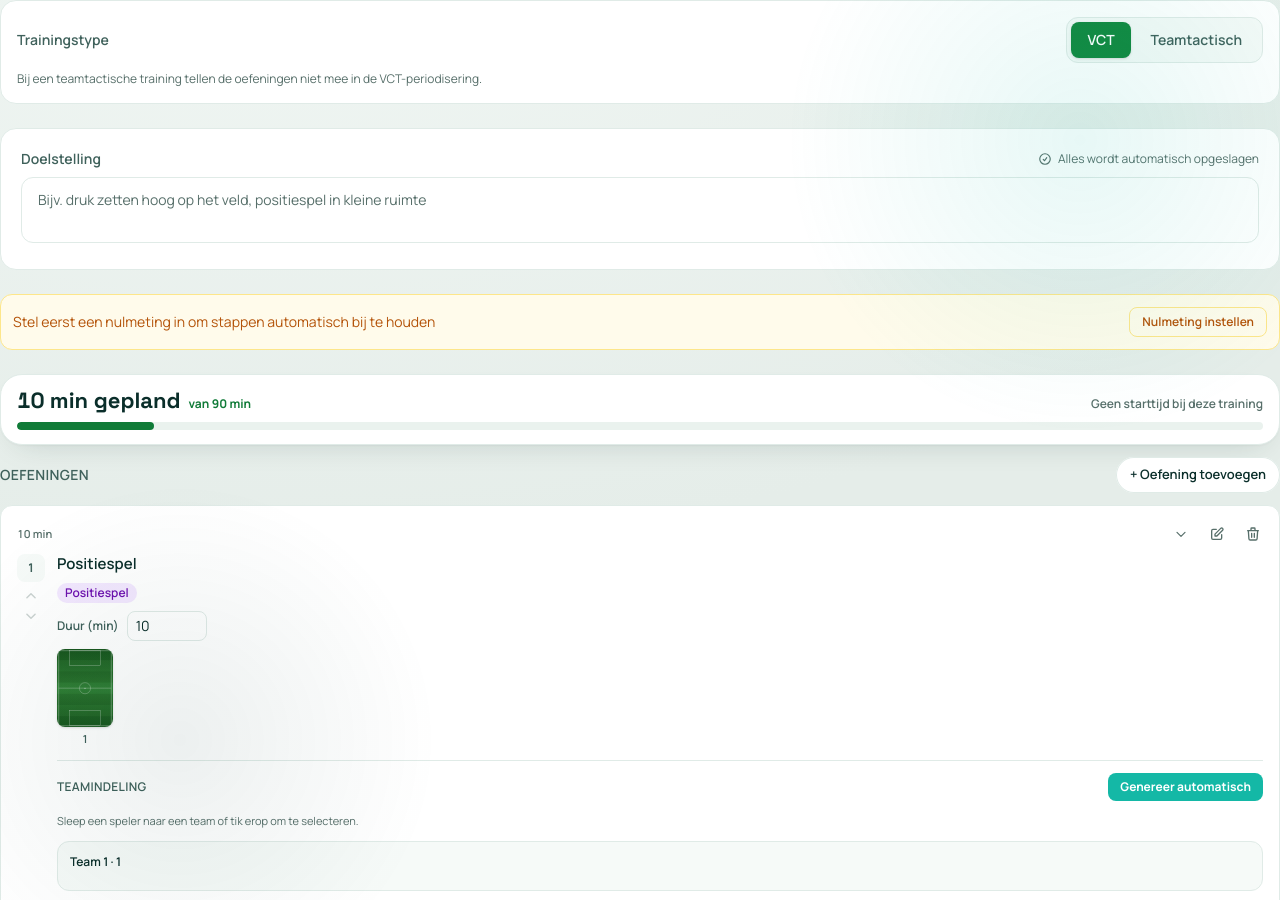
Scenario: TrainingPlanEditor — "Parallel aan"-veld › is disabled bij een training met maar 1 koppeling (geen enkele optie naast "— niet parallel —")
Step 1. Click the button named "Details" → {"x": 1181, "y": 534}, box 1165,518 -> 1197,550
(page scrolled)
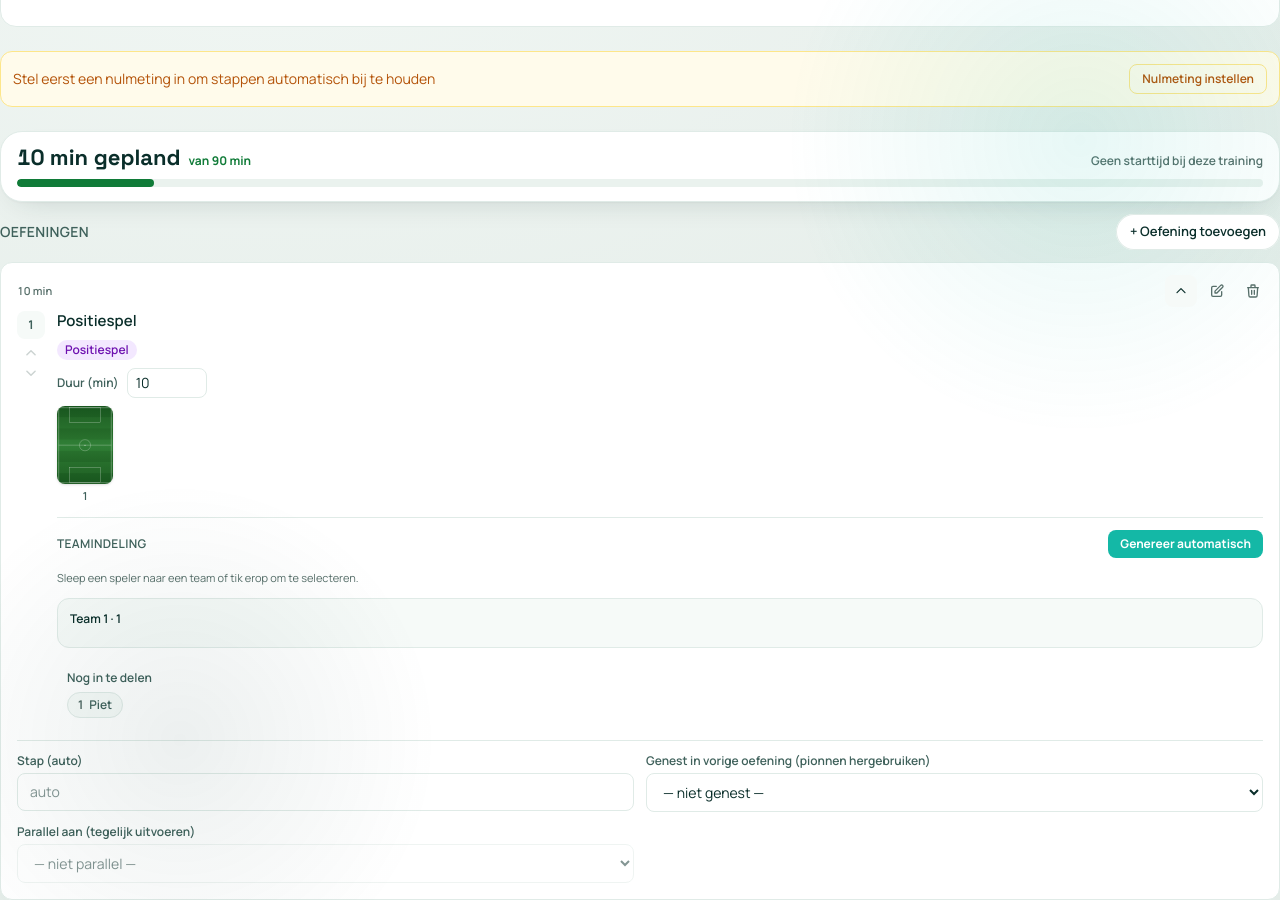
Expected: the dropdown below "Parallel aan (tegelijk uitvoeren)" is disabled, 17,844 -> 634,883
